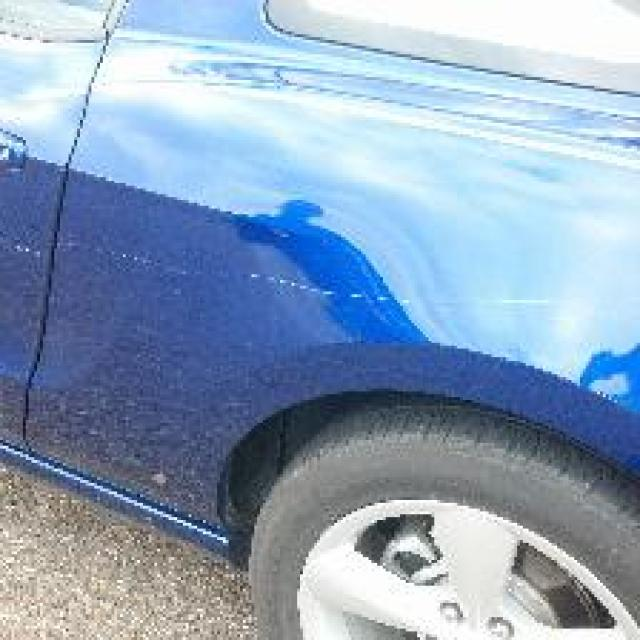door_scratch_minor: (229, 217, 397, 334)
